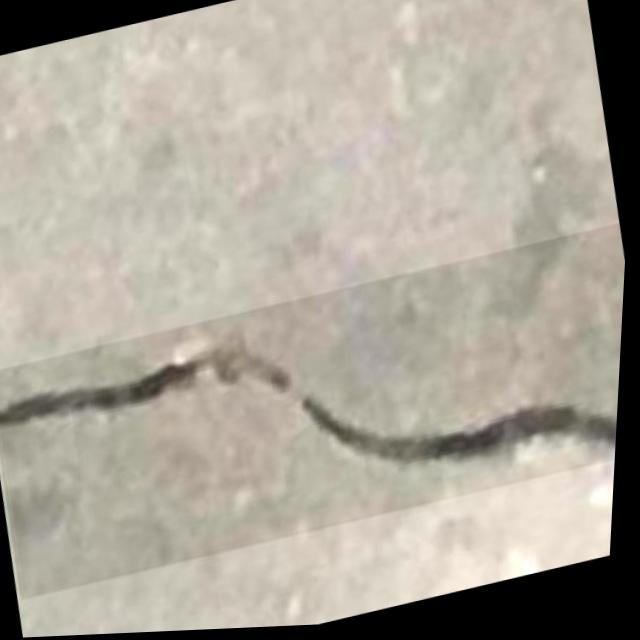Crack: (0, 219, 630, 612)
